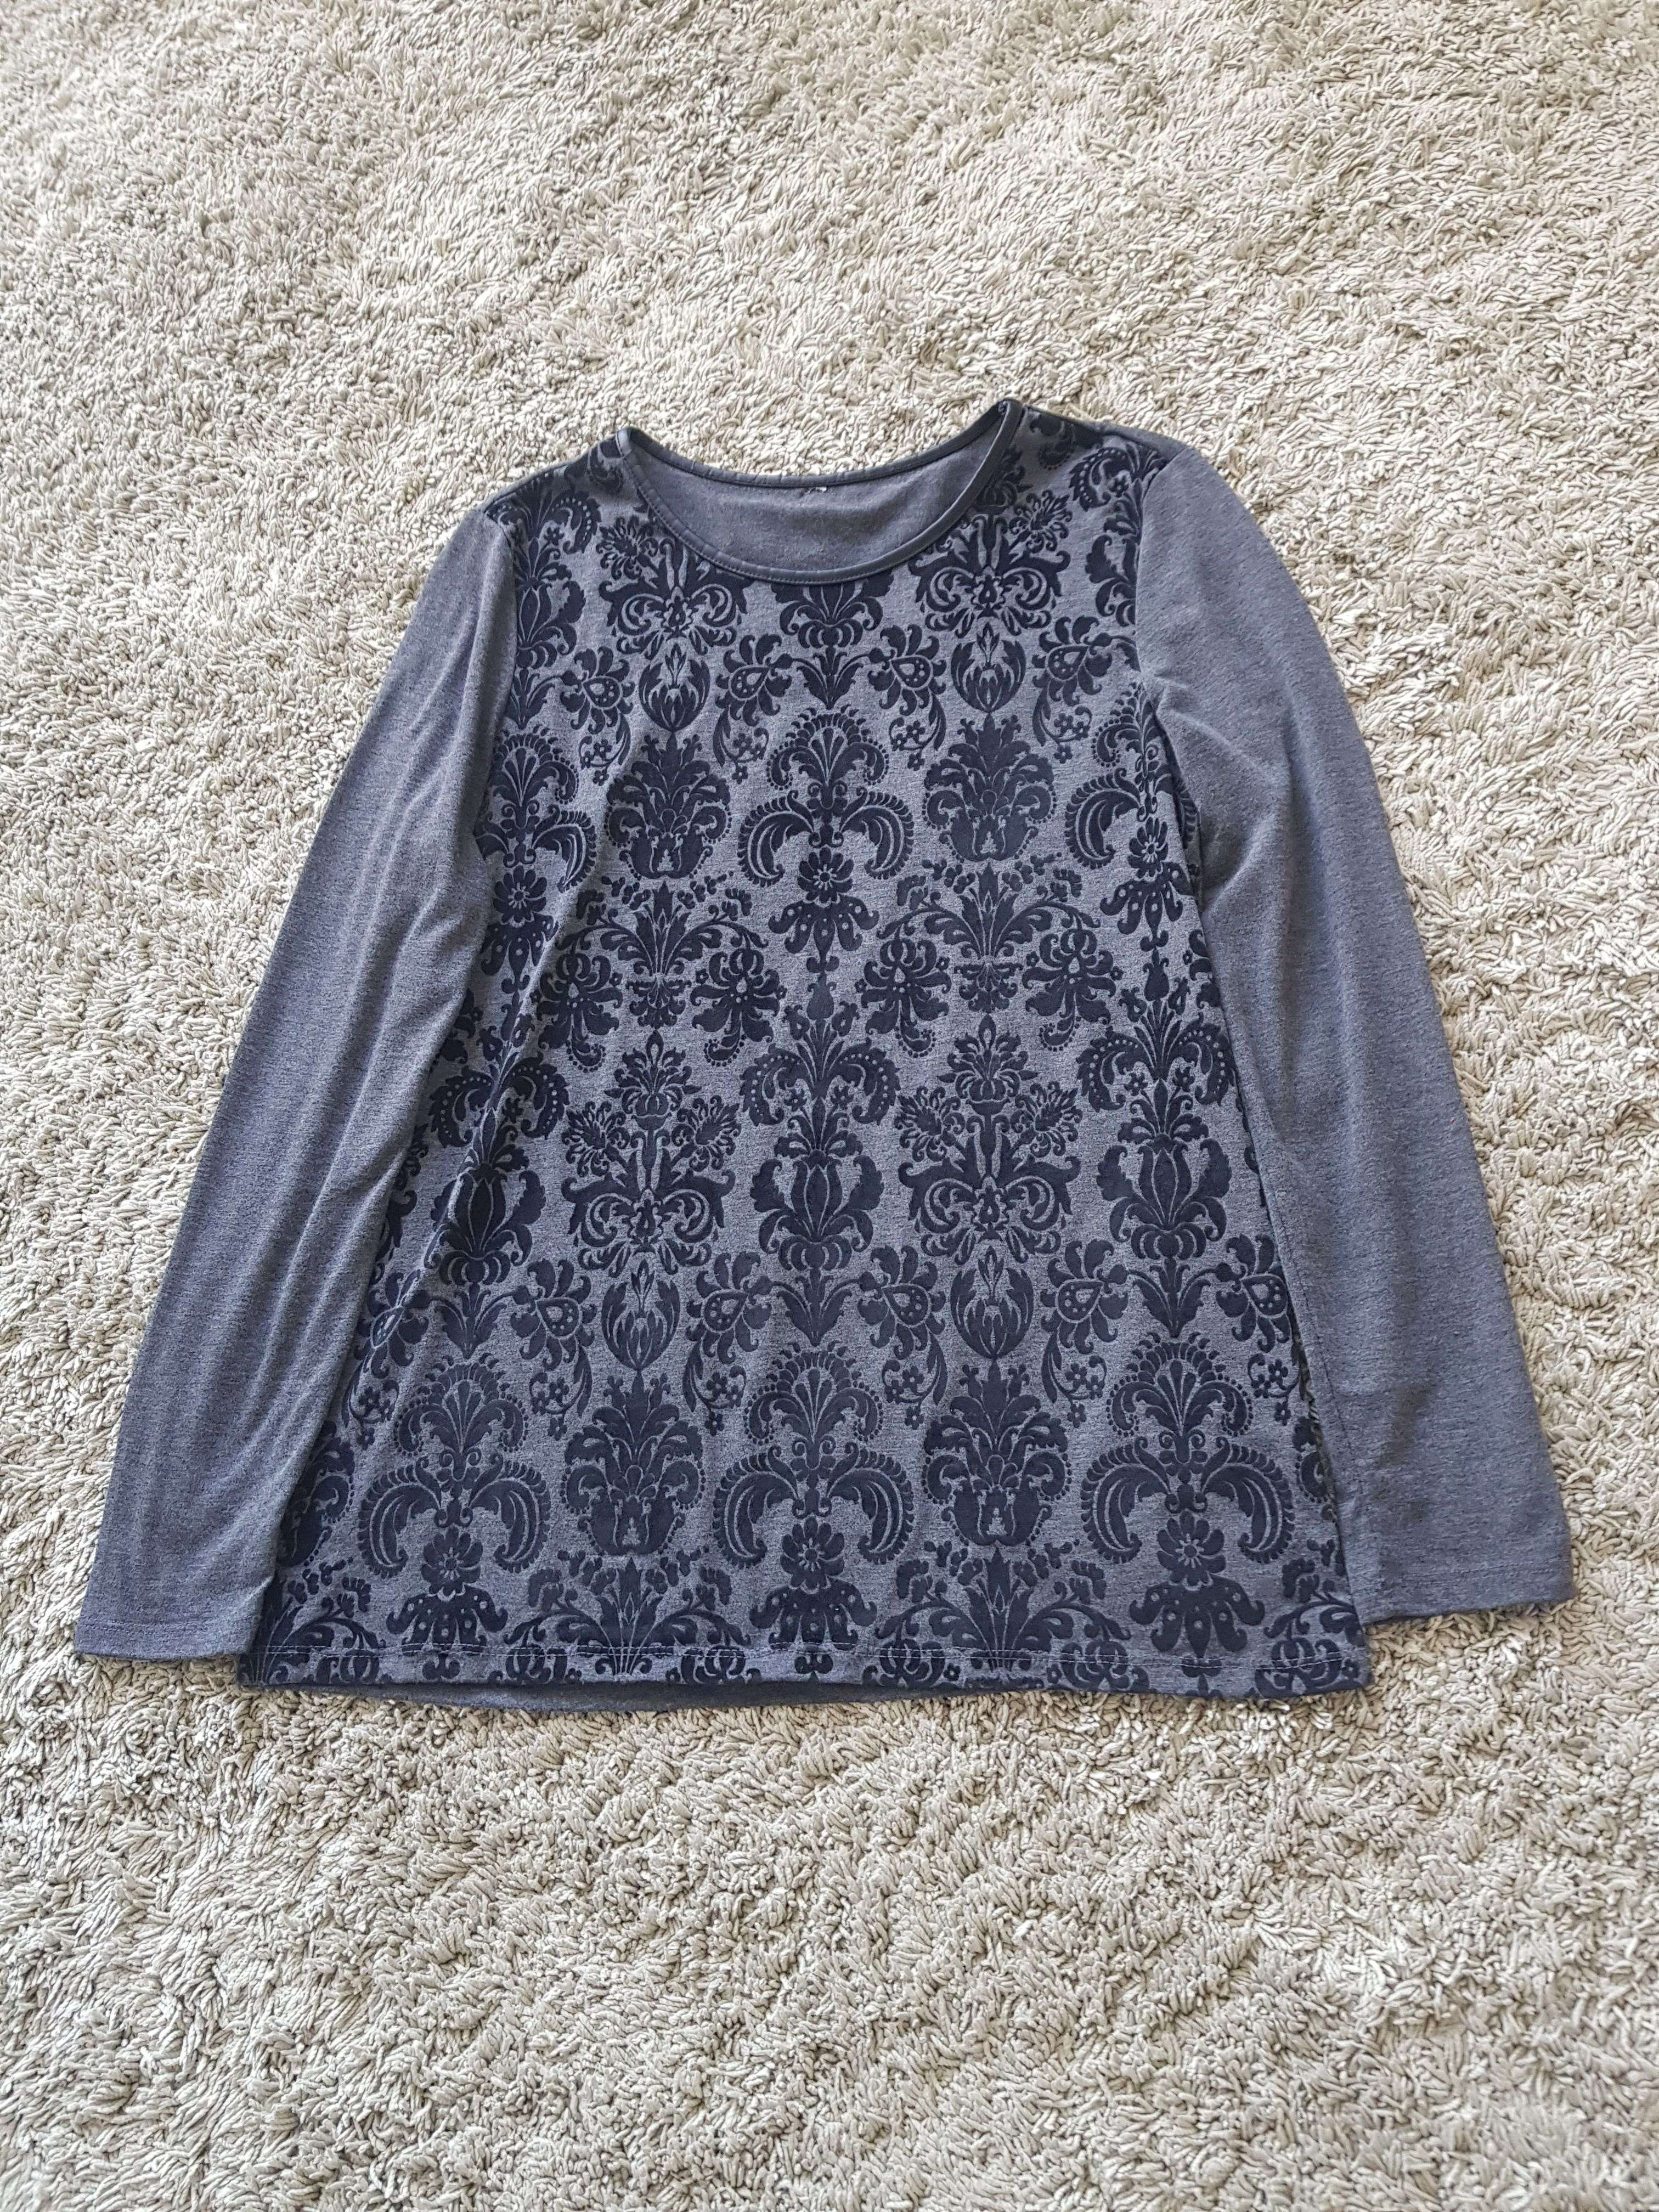clothes: (63, 421, 1565, 1710)
